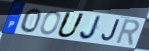J: (79, 15, 103, 41), (100, 18, 121, 43)
O: (19, 8, 42, 34), (39, 11, 62, 36)
R: (113, 19, 142, 48)
U: (55, 10, 87, 39)
